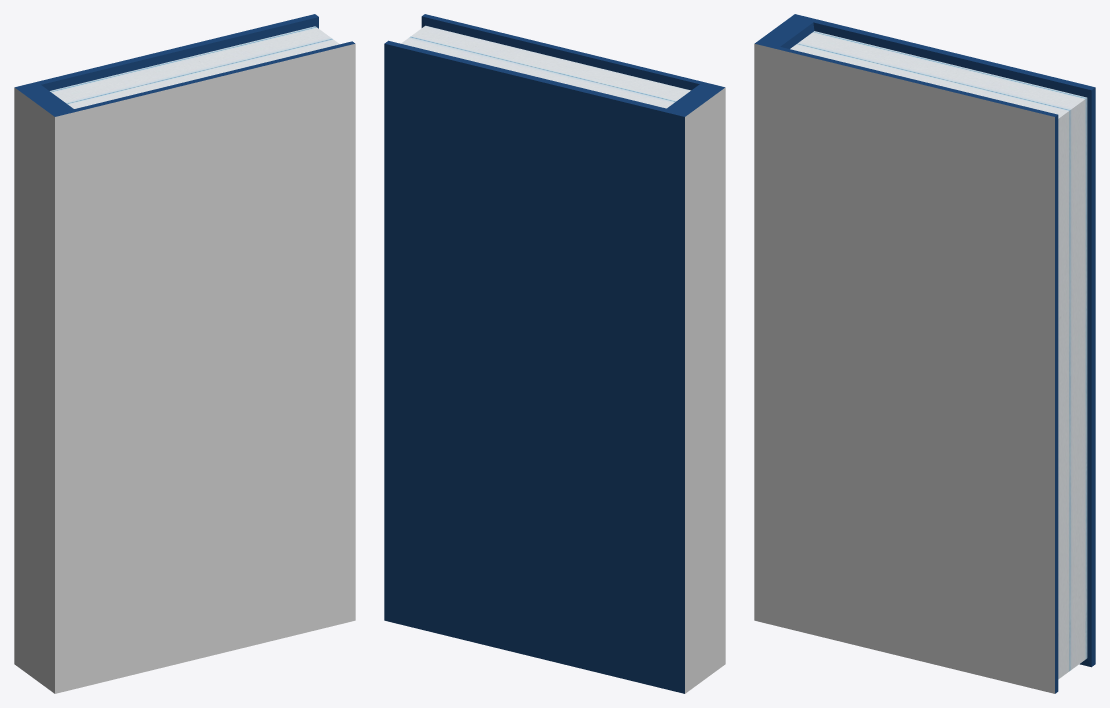
File: book.fbx
The picture shows the model from 3 angles, left to right: view 1: azimuth 30°, elevation 25°; view 2: azimuth 150°, elevation 25°; view 3: azimuth 330°, elevation 25°; orthographic projection.
Parts seen in each view (by area): view 1: Book; view 2: Book; view 3: Book.
Part boxes in pixels (<box>): Book: <box>14,14,355,693</box>; Book: <box>384,14,725,693</box>; Book: <box>754,14,1095,693</box>.
Size of the model in its own units: 109 by 200 by 25.48.
3 materials, 1 textured.
